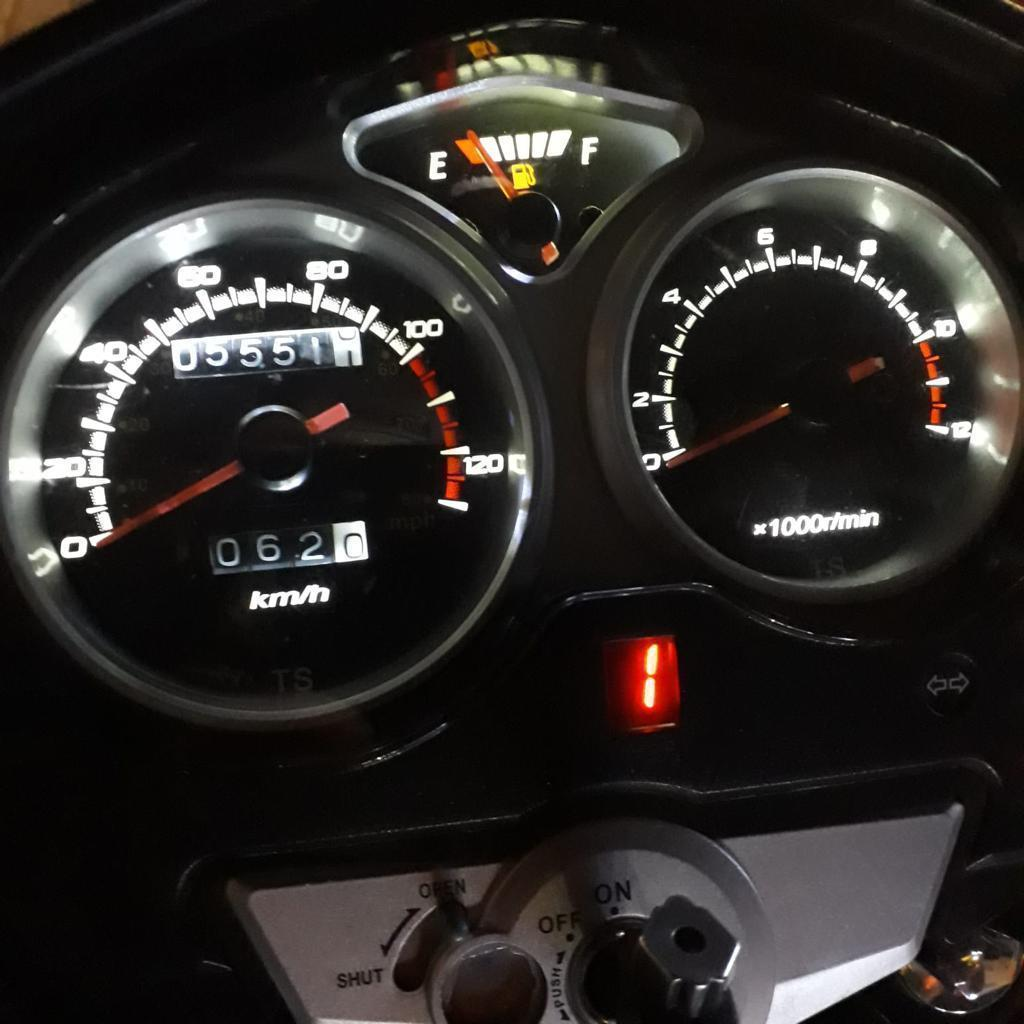0: (174, 340, 198, 372)
1: (310, 336, 321, 365), (346, 348, 354, 368)
5: (238, 337, 263, 367), (204, 337, 228, 367), (272, 337, 295, 365)
odometer: (170, 325, 365, 380)
